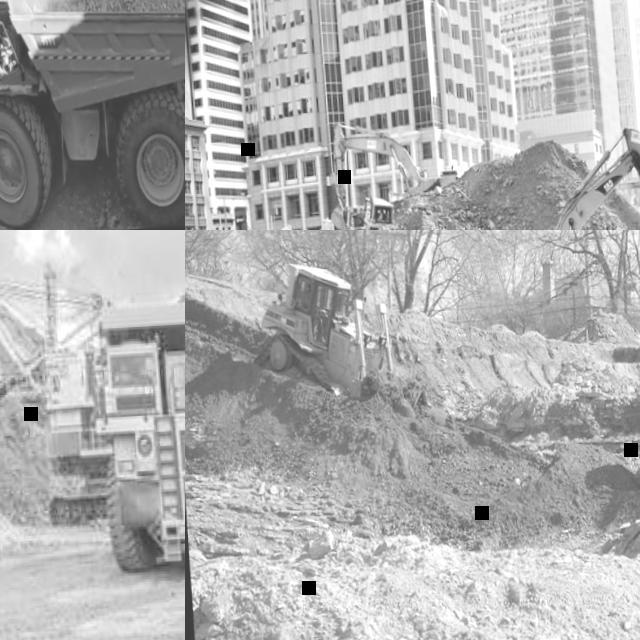vest: (377, 215, 383, 222)
